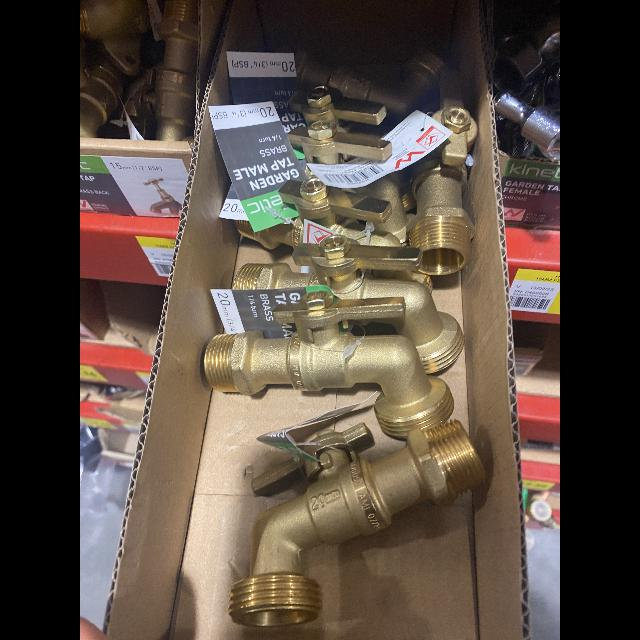Brass: (232, 420, 485, 627), (204, 330, 455, 436), (333, 274, 465, 374), (233, 234, 424, 290), (296, 50, 449, 118), (405, 158, 475, 276), (272, 291, 405, 348), (279, 178, 392, 237), (153, 0, 197, 141), (80, 0, 151, 74), (351, 173, 416, 245), (287, 120, 391, 164), (290, 86, 387, 133), (431, 71, 477, 163), (80, 45, 123, 138), (234, 218, 303, 249), (372, 270, 433, 294), (370, 230, 401, 248), (354, 233, 365, 244)
